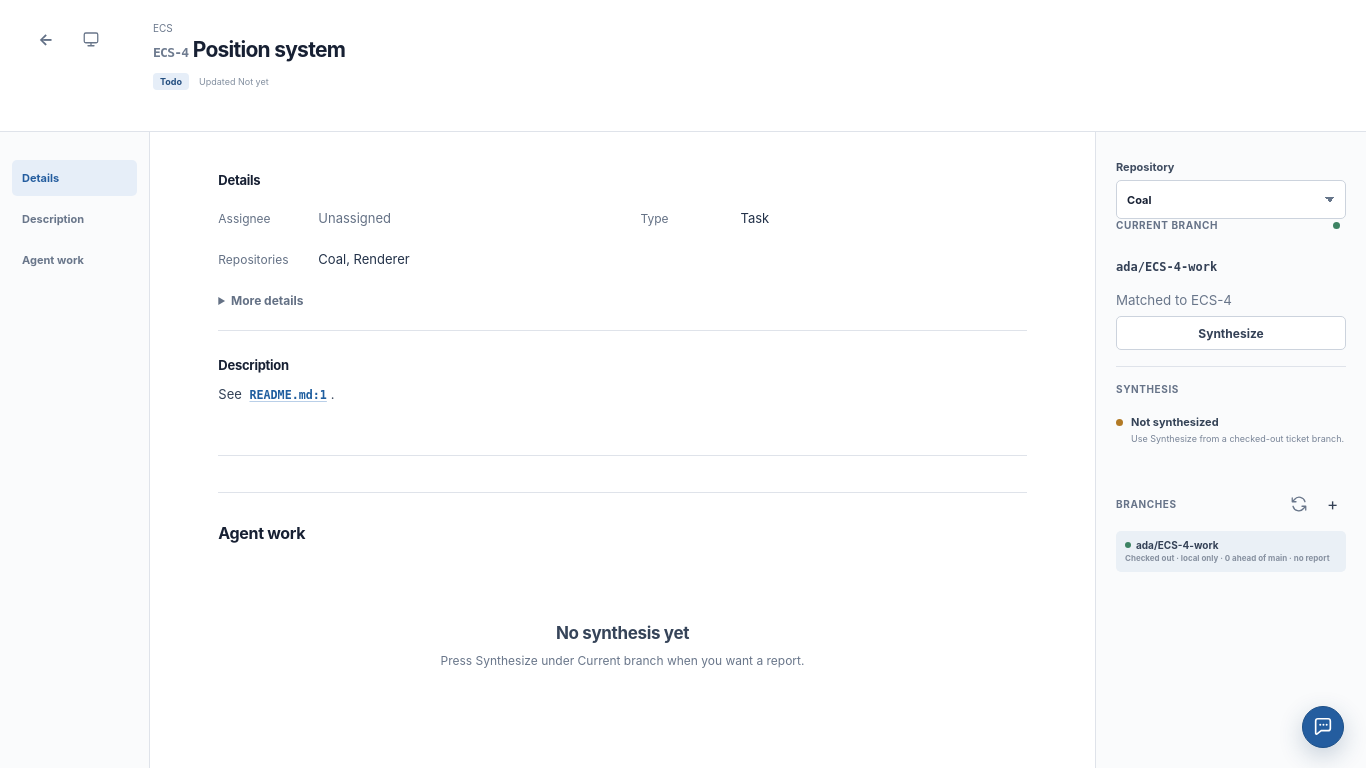
Bunker-native ticket work › shows the checked-out ticket branch and preselects it for manual linking
This screenshot has width=1366, height=768.
Expected: the element named "Current ticket branch" shows "ada/ECS-4-work", [1116, 250, 1346, 284]
Expected: the element named "Current ticket branch" shows "Matched to ECS-4", [1116, 219, 1346, 367]
Step 1. Click the button named "Create branch" → (1332, 504), box [1319, 490, 1346, 518]
(page scrolled)
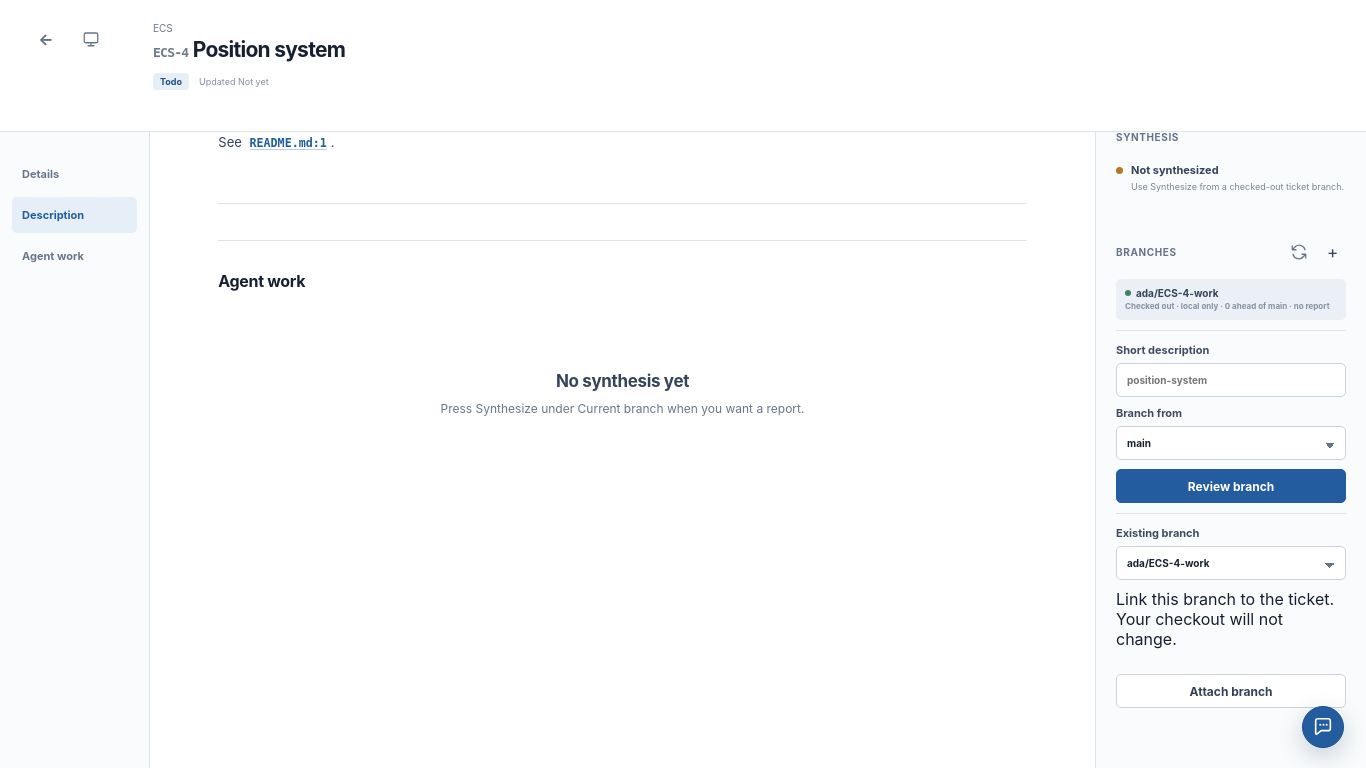
Expected: the dropdown labelled "Existing branch" shows "ada/ECS-4-work", [1116, 546, 1346, 580]
